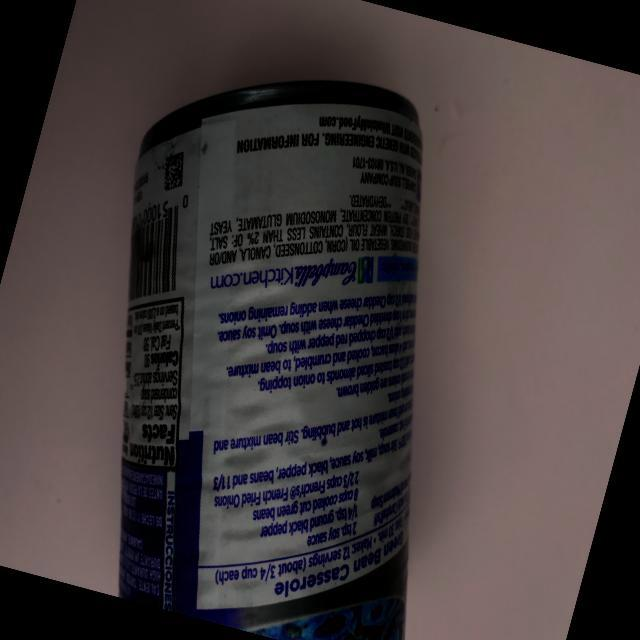metal: (2, 12, 588, 640)
